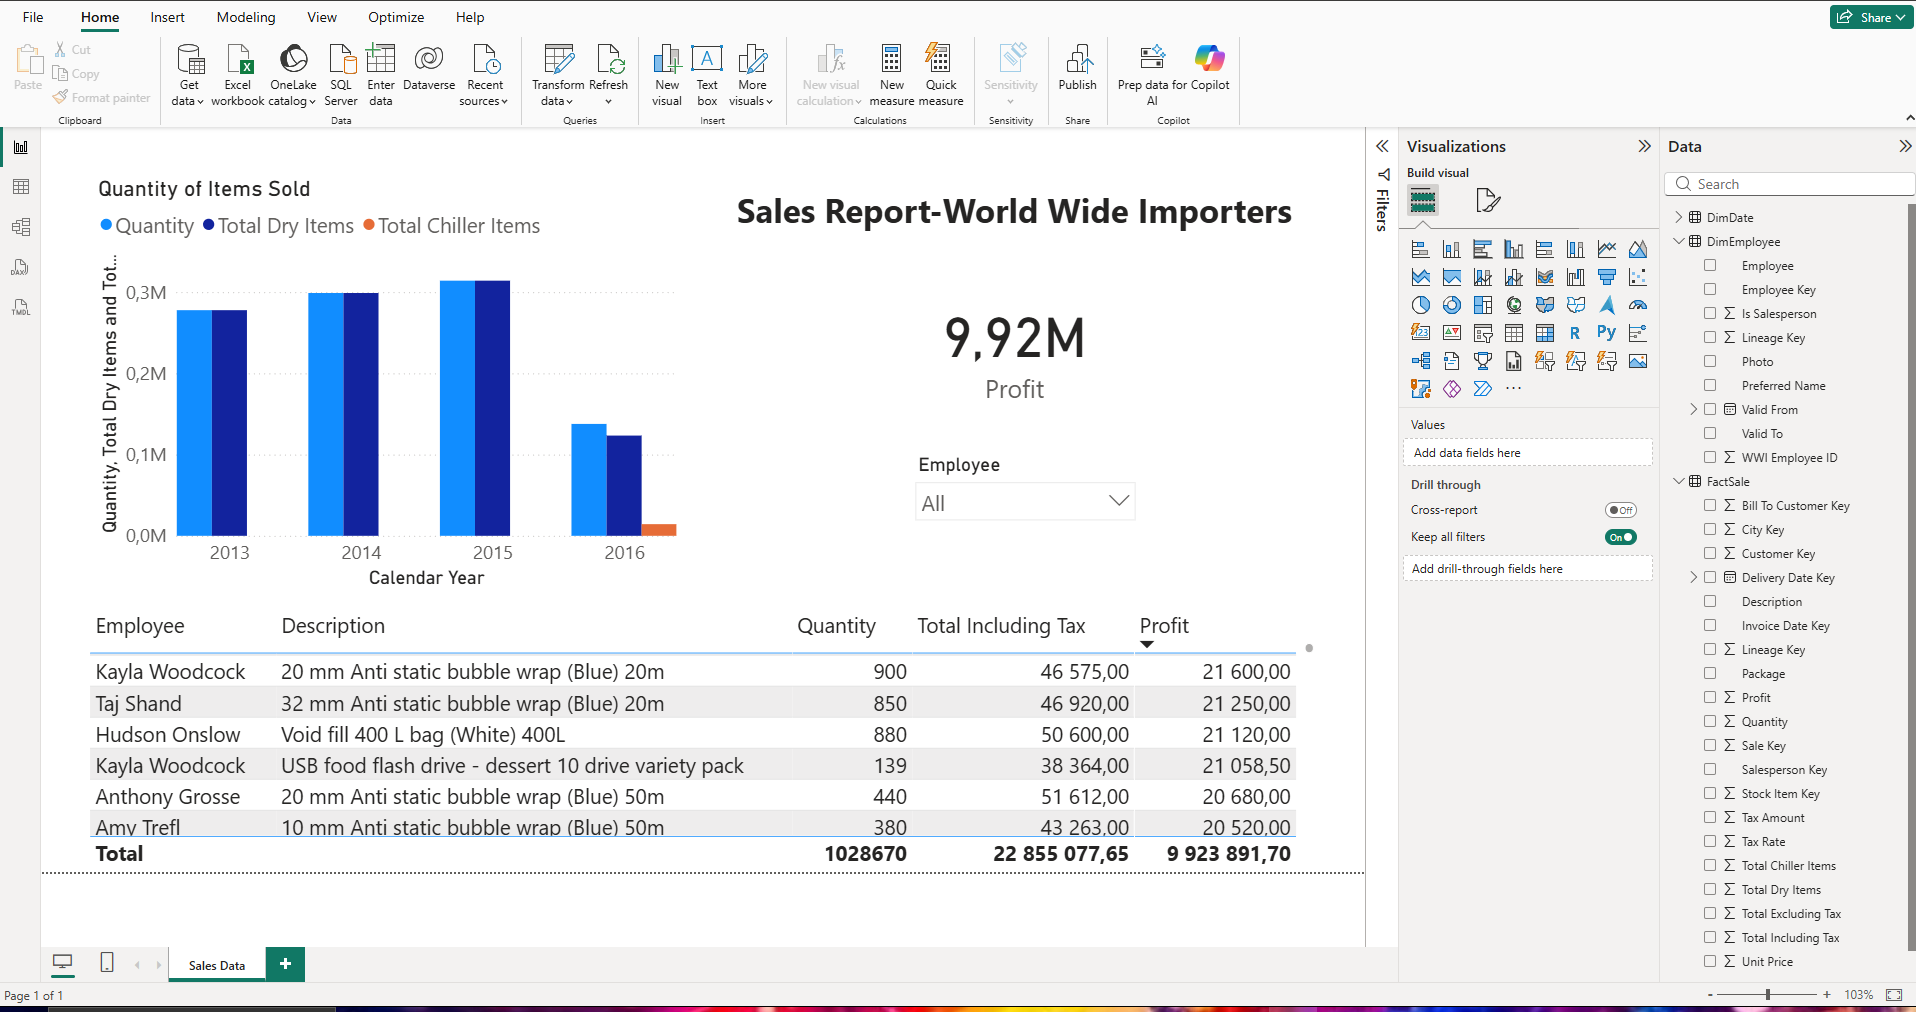

This screenshot's page, from the dashboard's own definition file:
{"tool":"powerbi","page":{"name":"Sales Data","canvas":[1280,720],"ordinal":0},"visuals":[{"type":"clusteredColumnChart","title":"Quantity of Items Sold","fields":{"Y":["Sum(FactSale.Quantity)","Sum(FactSale.Total Dry Items)","Sum(FactSale.Total Chiller Items)"],"Category":["DimDate.Calendar Year"]},"box":[50.1,46.3,569.3,404.8],"z":0},{"type":"card","fields":{"Values":["Sum(FactSale.Profit)"]},"box":[807.3,148.9,267.8,126.6],"z":1000},{"type":"slicer","fields":{"Values":["DimEmployee.Employee"]},"box":[835.3,310.3,233,98.6],"z":2000},{"type":"tableEx","fields":{"Values":["DimEmployee.Employee","FactSale.Description","Sum(FactSale.Quantity)","Sum(FactSale.Total Including Tax)","Sum(FactSale.Profit)"]},"box":[41.8,461,1194.4,258.7],"z":2001},{"type":"textbox","box":[630.3,53.2,621.6,76.4],"z":2002}]}

Visuals, with their boxes in screenshot pixels (x1, y1, x2, y2):
"Quantity of Items Sold" clusteredColumnChart: l=312, t=102, r=1073, b=644
card - Sum(FactSale.Profit): l=1325, t=239, r=1683, b=409
slicer - DimEmployee.Employee: l=1362, t=455, r=1674, b=587
tableEx - DimEmployee.Employee x FactSale.Description: l=300, t=657, r=1899, b=1003
textbox: l=1088, t=111, r=1915, b=213
